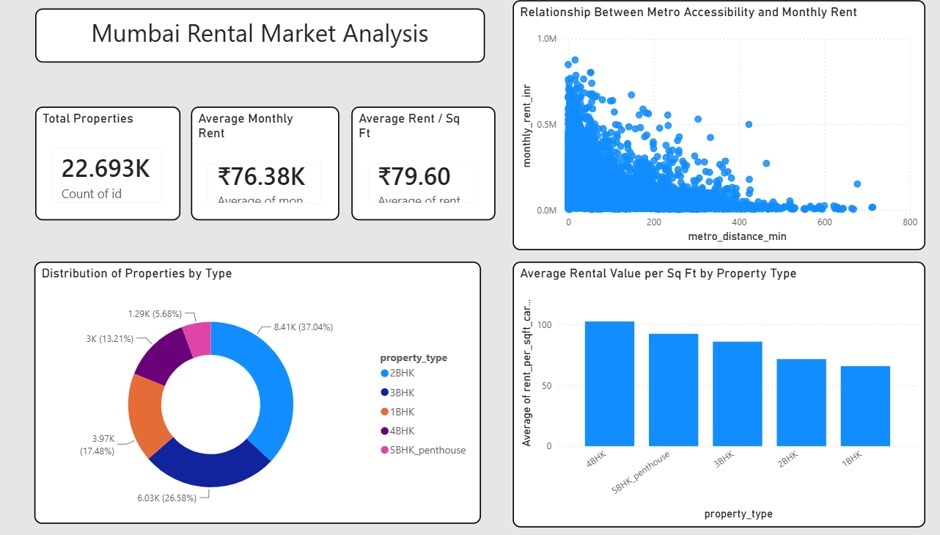

Layout of this report page (visuals, bound fields, positions):
{"tool":"powerbi","page":{"name":"Page 1","canvas":[1280,720],"ordinal":0},"visuals":[{"type":"scatterChart","title":"Relationship Between Metro Accessibility and Monthly Rent","fields":{"X":["mumbai_rentals.metro_distance_min"],"Y":["mumbai_rentals.monthly_rent_inr"]},"box":[681.3,15.5,543.2,329],"z":0},{"type":"textbox","box":[52.9,27.1,592.3,71],"z":1000},{"type":"clusteredColumnChart","title":"Average Rental Value per Sq Ft by Property Type","fields":{"Category":["mumbai_rentals.property_type"],"Y":["Avg(mumbai_rentals.rent_per_sqft_carpet_inr)"]},"box":[681.3,360,543.2,349.7],"z":2000},{"type":"donutChart","title":"Distribution of Properties by Type","fields":{"Category":["mumbai_rentals.property_type"],"Y":["CountNonNull(mumbai_rentals.id)"]},"box":[51.6,360,588.4,344.5],"z":3000},{"type":"cardVisual","title":"Total Properties","fields":{"Data":["CountNonNull(mumbai_rentals.id)"]},"box":[52.9,156.1,191,149.7],"z":4000},{"type":"cardVisual","title":"Average Monthly Rent","fields":{"Data":["Avg(mumbai_rentals.monthly_rent_inr)"]},"box":[258.1,156.1,194.8,149.7],"z":5000},{"type":"cardVisual","title":"Average Rent / Sq Ft","fields":{"Data":["Avg(mumbai_rentals.rent_per_sqft_carpet_inr)"]},"box":[469.7,156.1,189.7,149.7],"z":6000}]}

Visuals, with their boxes in screenshot pixels (x1, y1, x2, y2), scaled from the page's 1280x720 canvas onto the 940x535 screenshot:
"Relationship Between Metro Accessibility and Monthly Rent" scatterChart: l=500, t=12, r=899, b=256
textbox: l=39, t=20, r=474, b=73
"Average Rental Value per Sq Ft by Property Type" clusteredColumnChart: l=500, t=268, r=899, b=527
"Distribution of Properties by Type" donutChart: l=38, t=268, r=470, b=523
"Total Properties" cardVisual: l=39, t=116, r=179, b=227
"Average Monthly Rent" cardVisual: l=190, t=116, r=333, b=227
"Average Rent / Sq Ft" cardVisual: l=345, t=116, r=484, b=227
